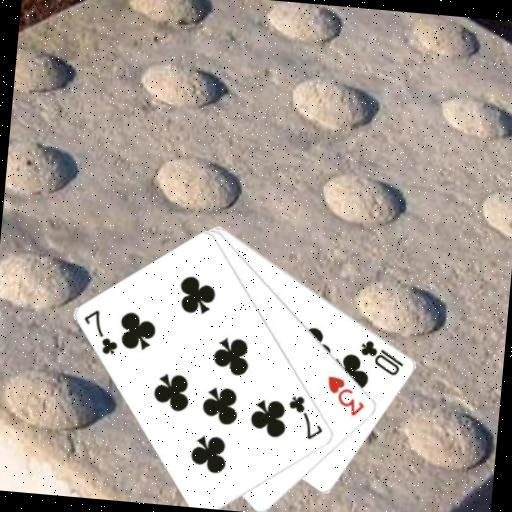10C: (356, 336, 408, 379)
3H: (322, 372, 369, 419)
7C: (78, 305, 123, 357), (283, 392, 327, 443)
